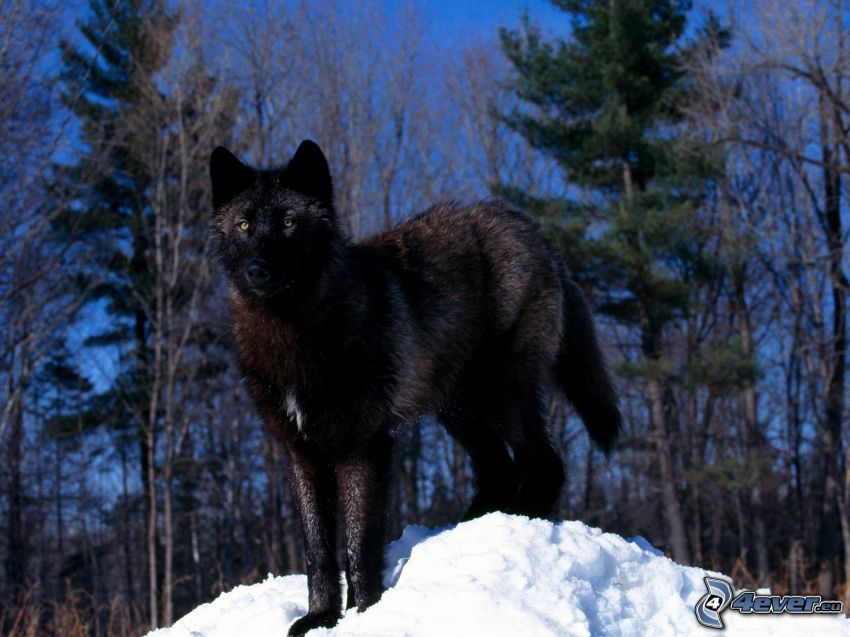Lobo: (180, 133, 634, 612)
